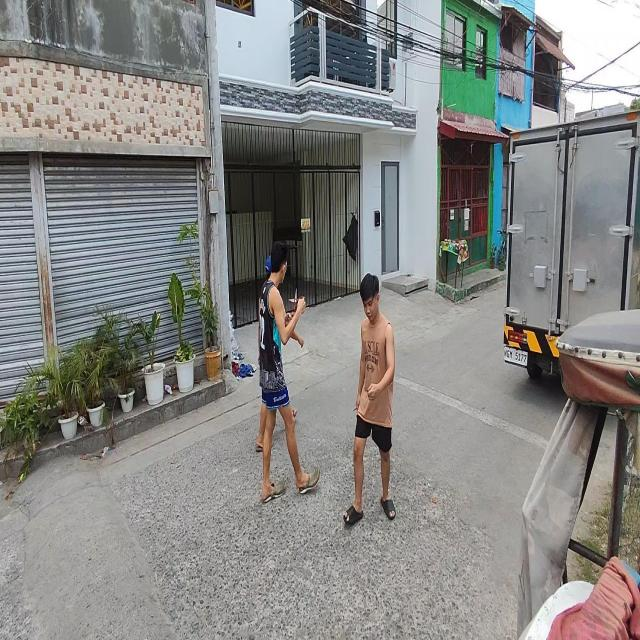scissor: (288, 288, 304, 310)
